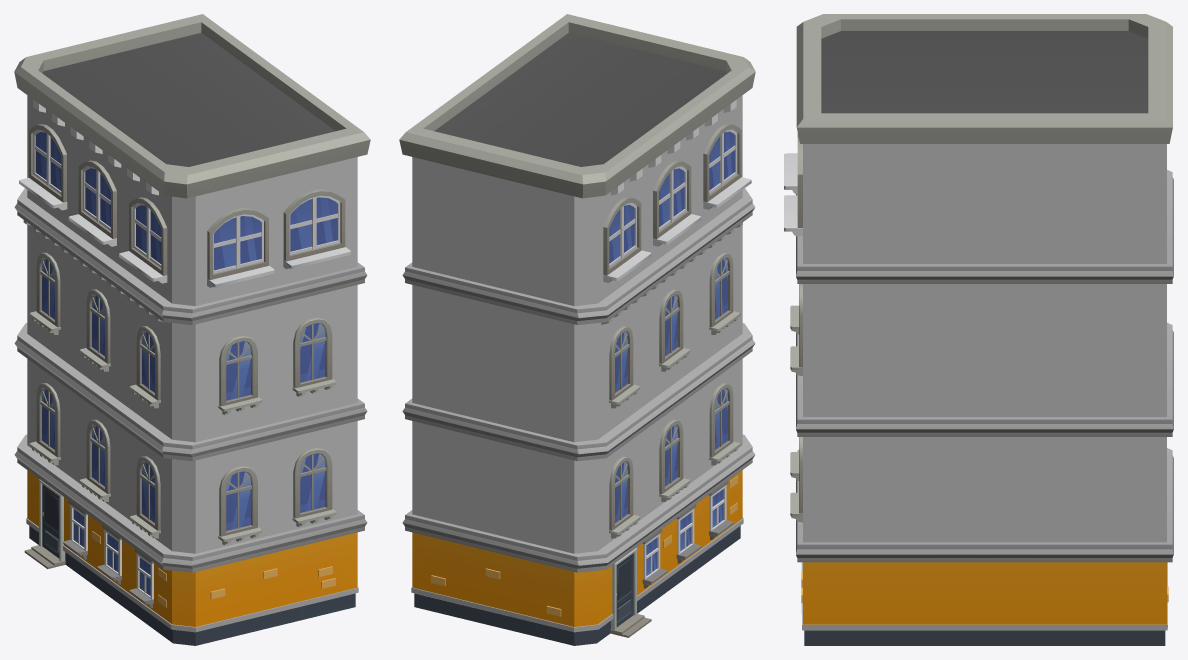
File: Building_18_2_R.fbx
The picture shows the model from 3 angles, left to right: view 1: azimuth 30°, elevation 25°; view 2: azimuth 150°, elevation 25°; view 3: azimuth 270°, elevation 25°; orthographic projection. The views are drawn at different scales.
Visible parts, largest first — view 1: Building_18_2_R; view 2: Building_18_2_R; view 3: Building_18_2_R.
Part boxes in pixels (x1,y1,x2,y2): Building_18_2_R: (14, 14, 370, 645); Building_18_2_R: (399, 14, 755, 645); Building_18_2_R: (784, 14, 1173, 645).
Bounding box in the file's own units: 719 × 1594 × 1059.
